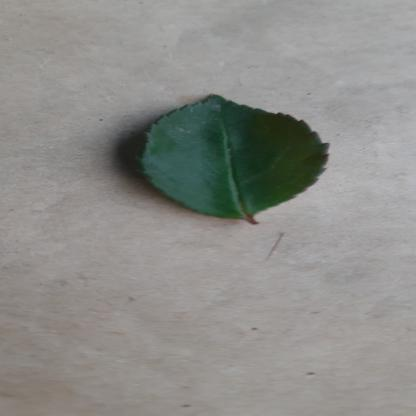normal: (131, 91, 342, 221)
